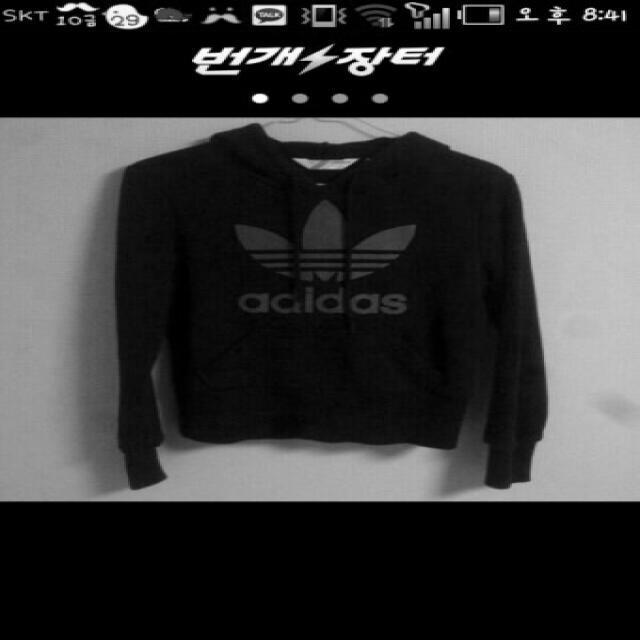Adidas: (217, 193, 430, 286)
